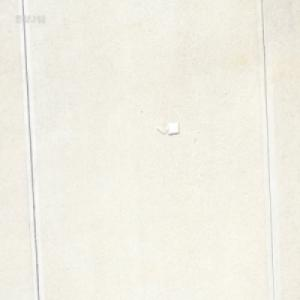LuggageTag: (155, 120, 179, 136)
